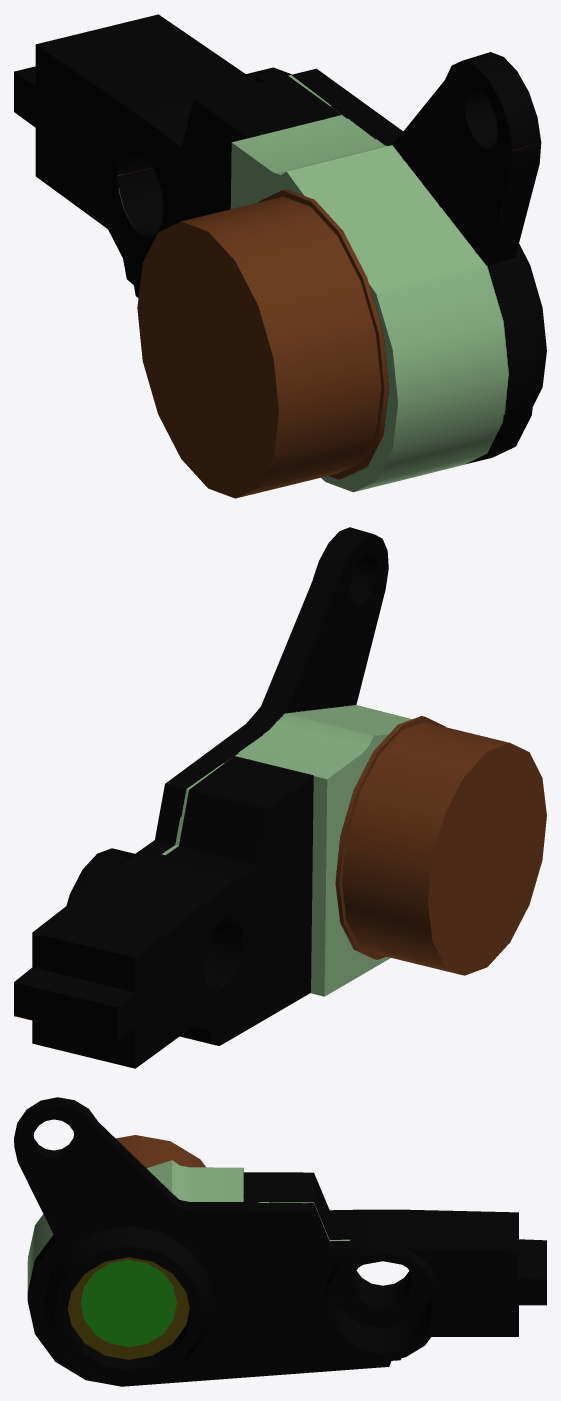
File: ПТ-МехПрицелЗадПл.fbx
3 renders of one model, top to bottom at view 1: azimuth 30°, elevation 25°; view 2: azimuth 150°, elevation 25°; view 3: azimuth 270°, elevation 25°, orthographic. The views are drawn at different scales.
Visible parts, largest first — view 1: задняя планка.001; view 2: задняя планка.001; view 3: задняя планка.001.
Boxes of the visible parts, x1,y1,x2,y2 form: задняя планка.001: [14, 14, 546, 498]; задняя планка.001: [14, 527, 546, 1068]; задняя планка.001: [14, 1097, 546, 1386].
Bounding box in the file's own units: 14.55 × 21.63 × 37.5.
1 material, 1 textured.
